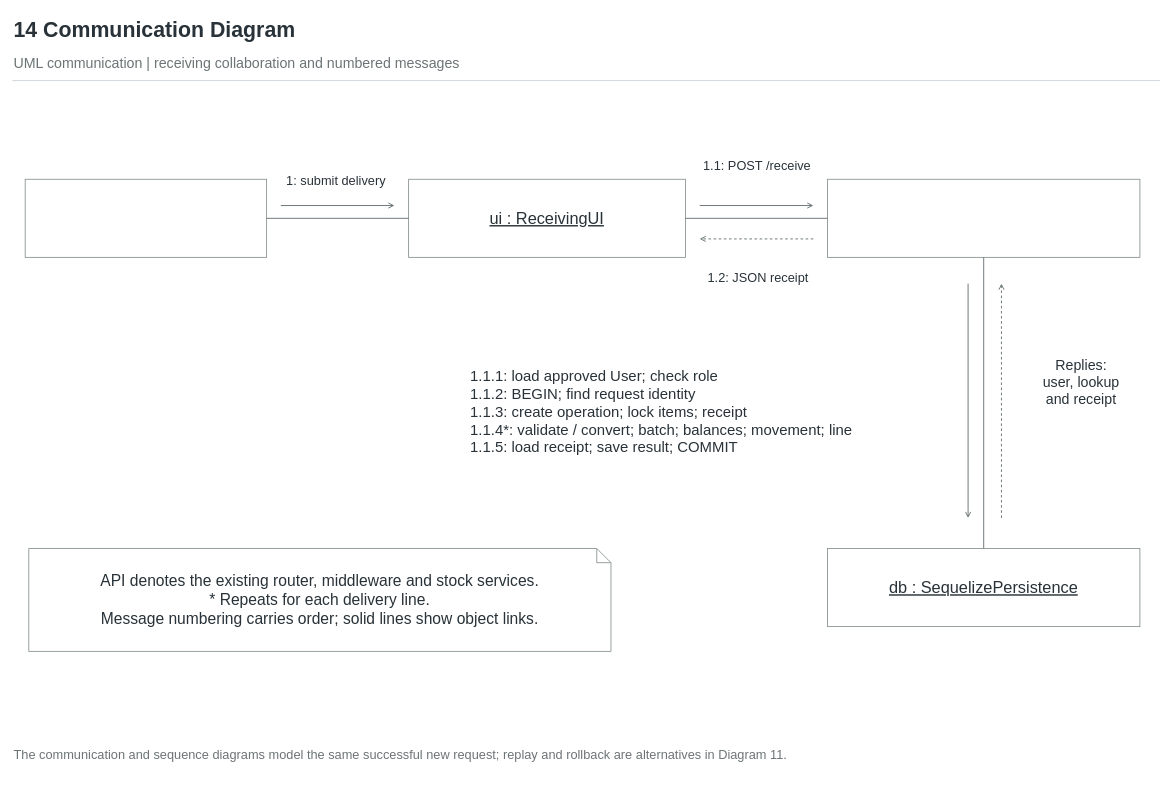
Image size: 1174x785. Some labels were removed from this diagram. The shapes that lost their labels are listed below. From the top down, each one's centre as x and y in pixels, then its label:
[145,217]: staff : InventoryStaff
[983,217]: api : InventoryAPI
